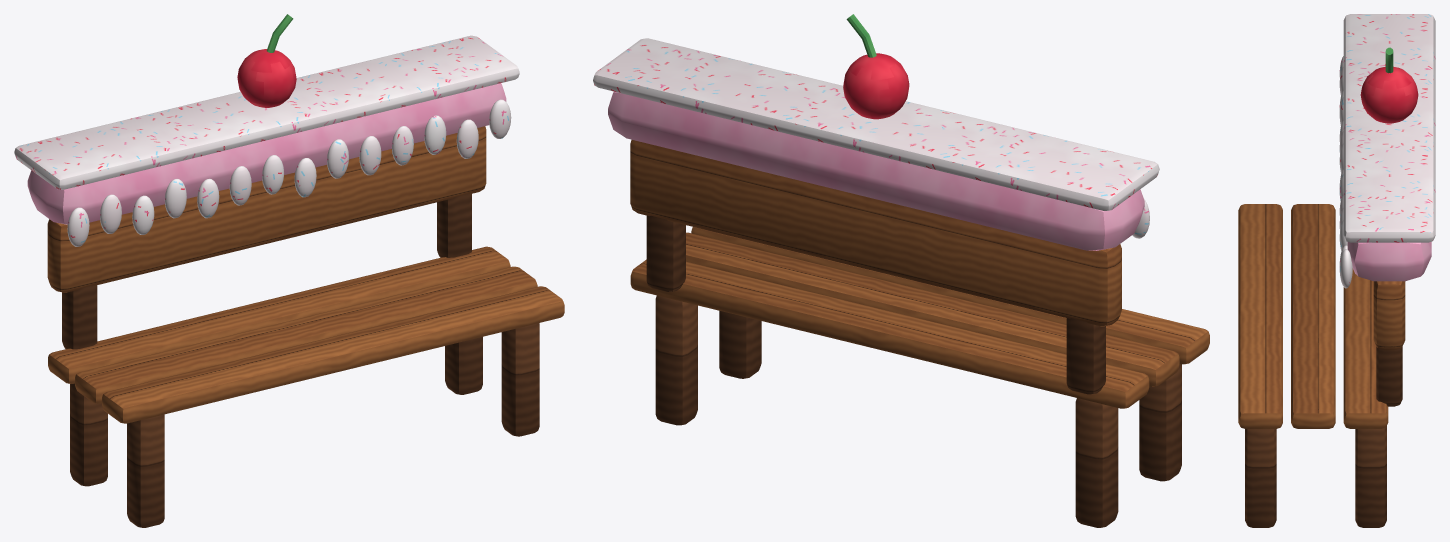
Rendered from GIN_CakeBench.fbx.
The picture shows the model from 3 angles, left to right: view 1: azimuth 30°, elevation 25°; view 2: azimuth 150°, elevation 25°; view 3: azimuth 270°, elevation 25°; orthographic projection. The views are drawn at different scales.
Parts seen in each view (by area): view 1: GIN_CakeBench; view 2: GIN_CakeBench; view 3: GIN_CakeBench.
Part boxes in pixels (x1=…): GIN_CakeBench: x1=14, y1=14, x2=564, y2=527; GIN_CakeBench: x1=593, y1=14, x2=1209, y2=527; GIN_CakeBench: x1=1238, y1=14, x2=1435, y2=527.
Bounding box in the file's own units: 1.98 × 1.67 × 0.75.
